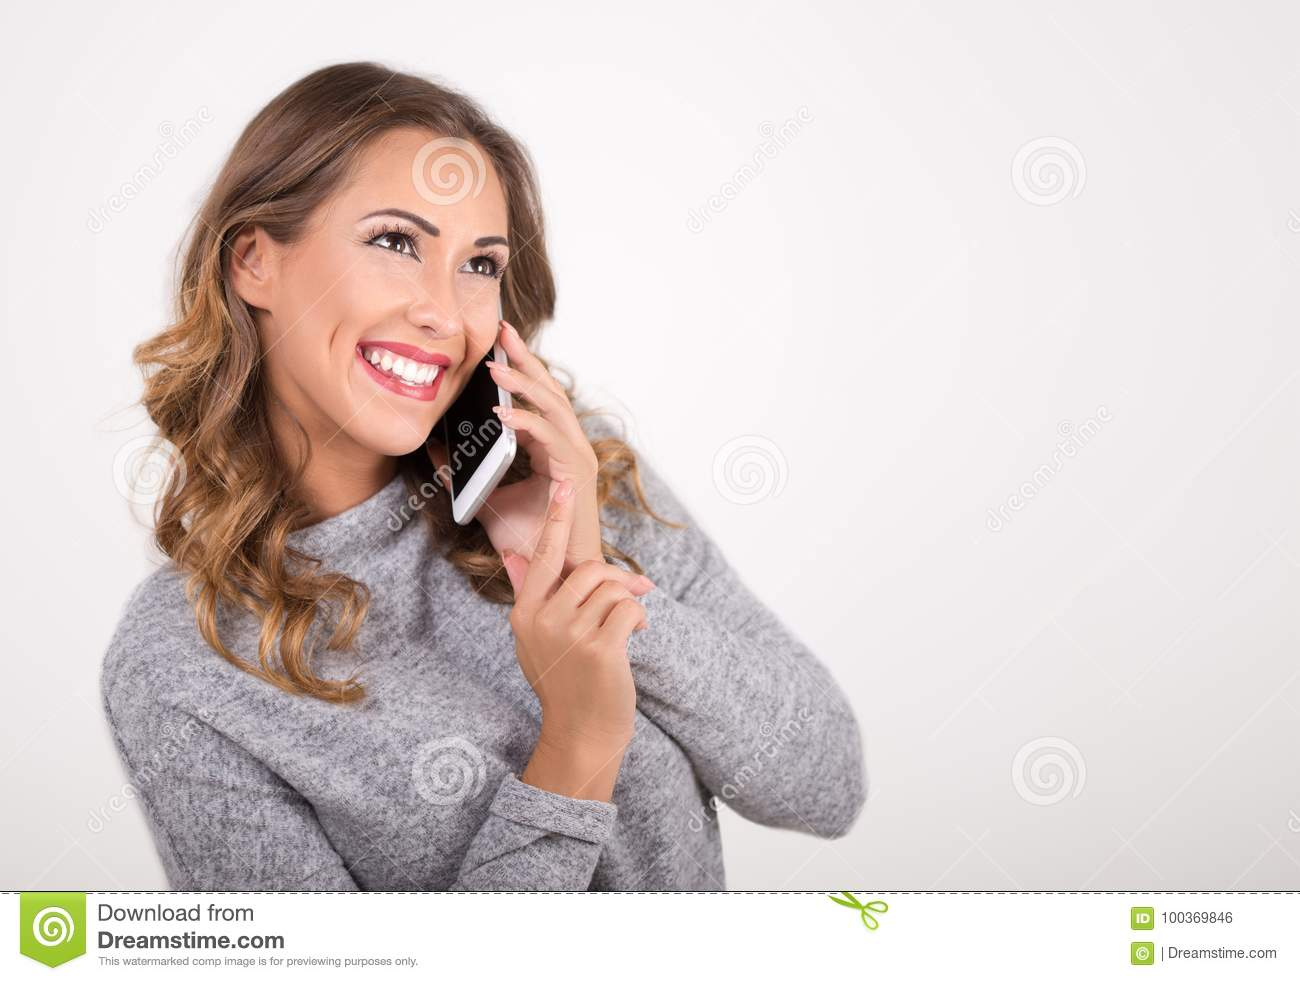phone: (447, 293, 522, 531)
talk: (332, 193, 608, 594)
